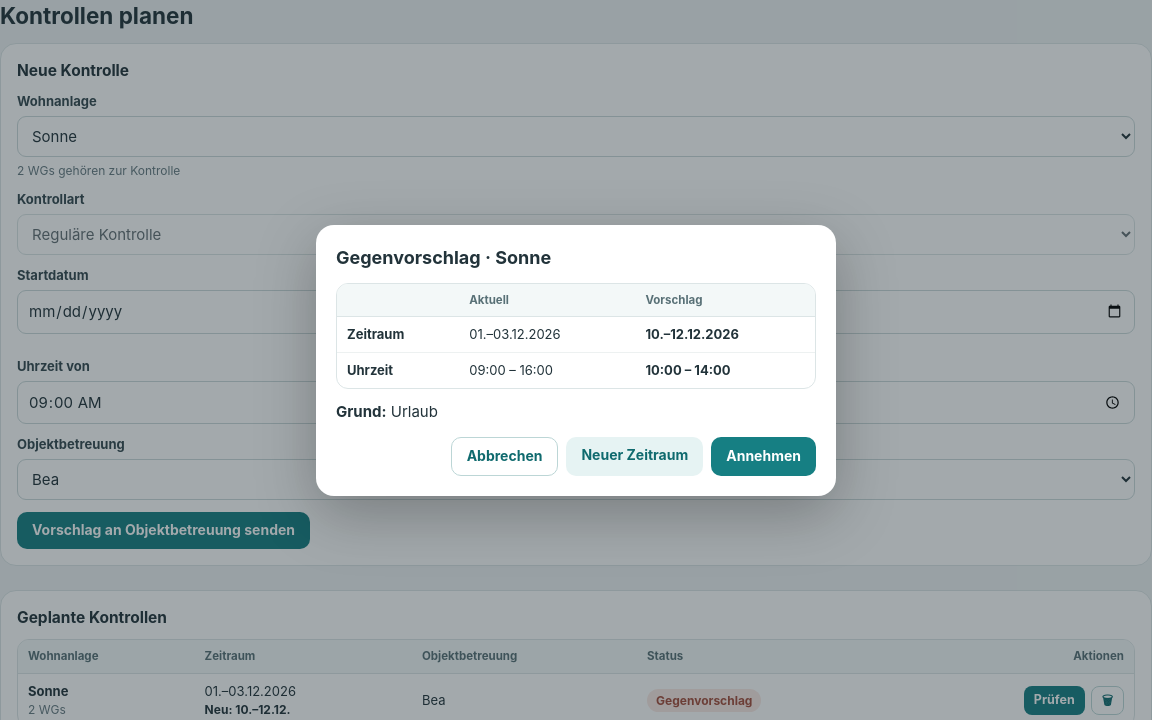
Test: shows an error when accepting fails because of an unexpected server error
Click the button "Annehmen" at (764, 456), box [711, 437, 816, 476]
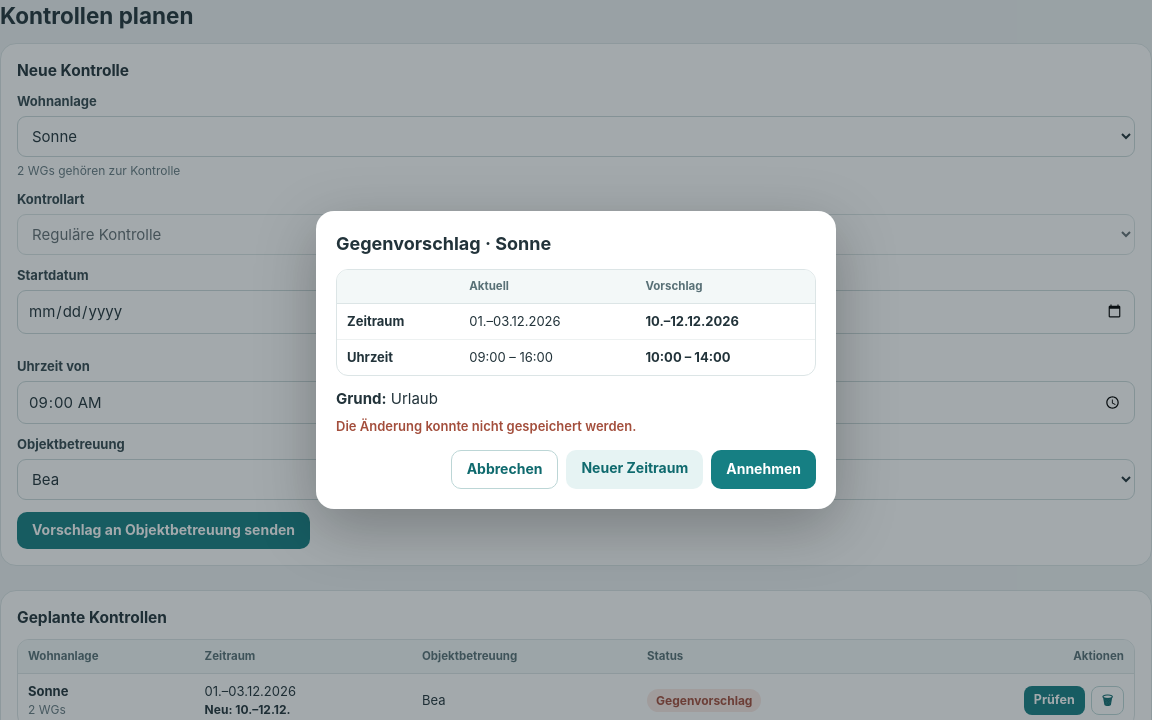
Expected: the text "Urlaub" is shown, [391, 388, 438, 408]
Expected: the message reads "Die Änderung konnte nicht gespeichert werden.", [336, 418, 636, 434]
